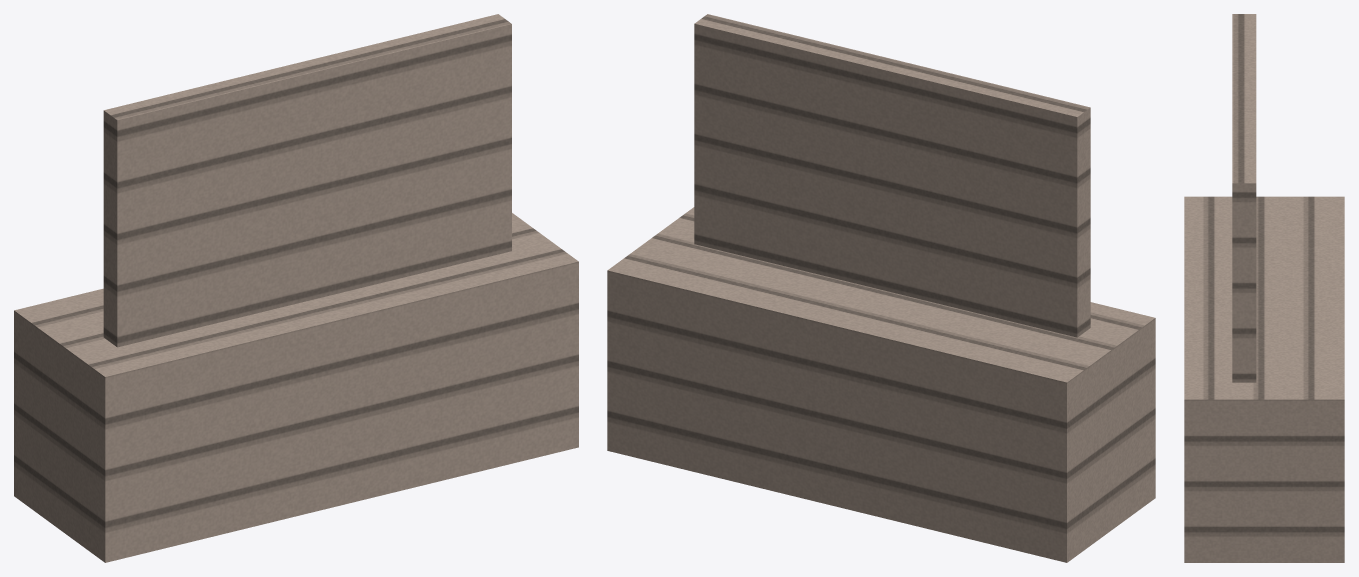
File: tv_entertainment_stand.glb
3 views of the same model, side by side, from view 1: azimuth 30°, elevation 25°; view 2: azimuth 150°, elevation 25°; view 3: azimuth 270°, elevation 25° (orthographic). The views are drawn at different scales.
Parts seen in each view (by area): view 1: tv_entertainment_stand-col; view 2: tv_entertainment_stand-col; view 3: tv_entertainment_stand-col.
Boxes of the visible parts, left/top/right/bottom form: tv_entertainment_stand-col: left=14, top=14, right=578, bottom=562; tv_entertainment_stand-col: left=607, top=14, right=1155, bottom=562; tv_entertainment_stand-col: left=1184, top=14, right=1344, bottom=562.
Size of the model in its own units: 1.2 by 1 by 0.4.
Materials: 1 (1 with a texture image).
